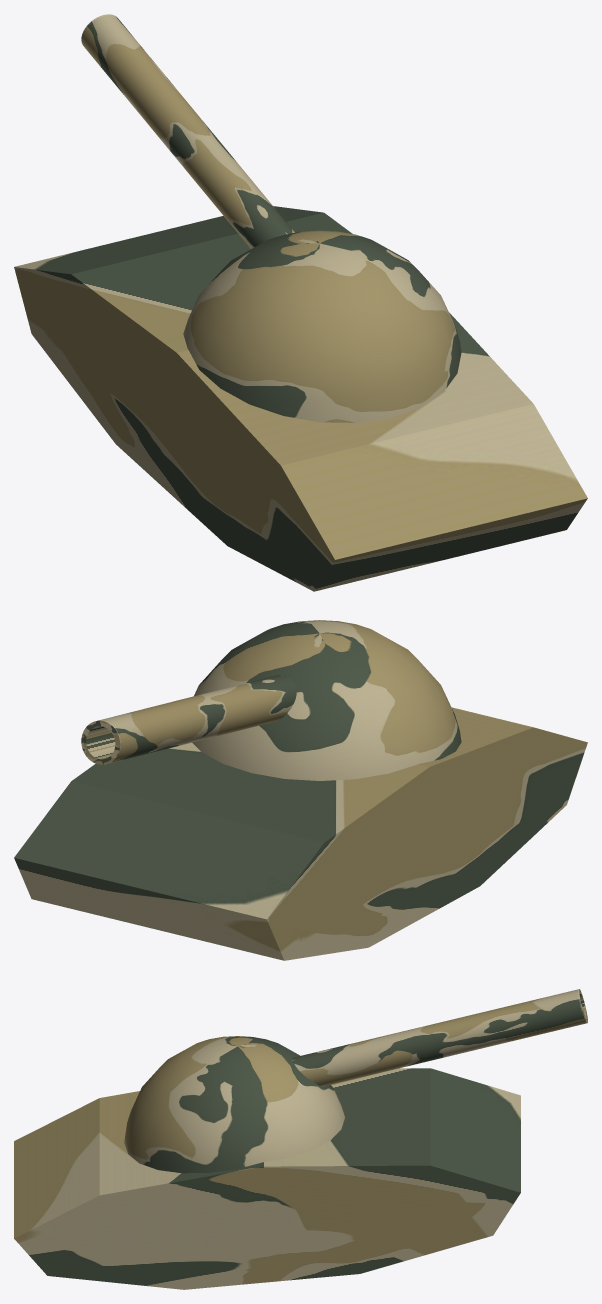
File: cat.fbx
The picture shows the model from 3 angles, top to bottom: view 1: azimuth 30°, elevation 25°; view 2: azimuth 150°, elevation 25°; view 3: azimuth 270°, elevation 25°; orthographic projection. The views are drawn at different scales.
Parts seen in each view (by area): view 1: chassis, turret; view 2: chassis, turret; view 3: chassis, turret.
Part boxes in pixels (box(x1,y1,x2,y2)): chassis: box(14, 206, 587, 591); turret: box(81, 14, 461, 422); chassis: box(14, 707, 587, 960); turret: box(81, 620, 461, 780); chassis: box(14, 1068, 520, 1289); turret: box(124, 989, 587, 1173).
Size of the model in its own units: 262 by 314 by 653.
Materials: 1 (1 with a texture image).
